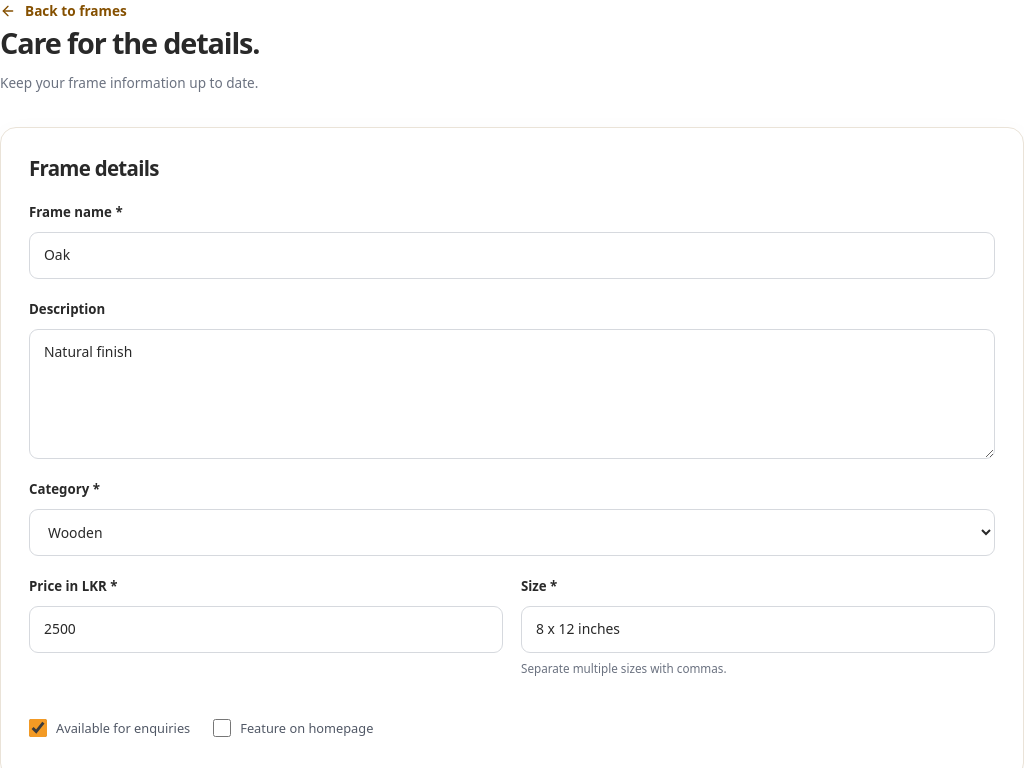
Test case: edits a persisted frame without requiring a replacement image
Replace the text in the number field labelled "Price in LKR *" with "3000". click: (266, 629)
box: left=29, top=606, right=503, bottom=653
(page scrolled)
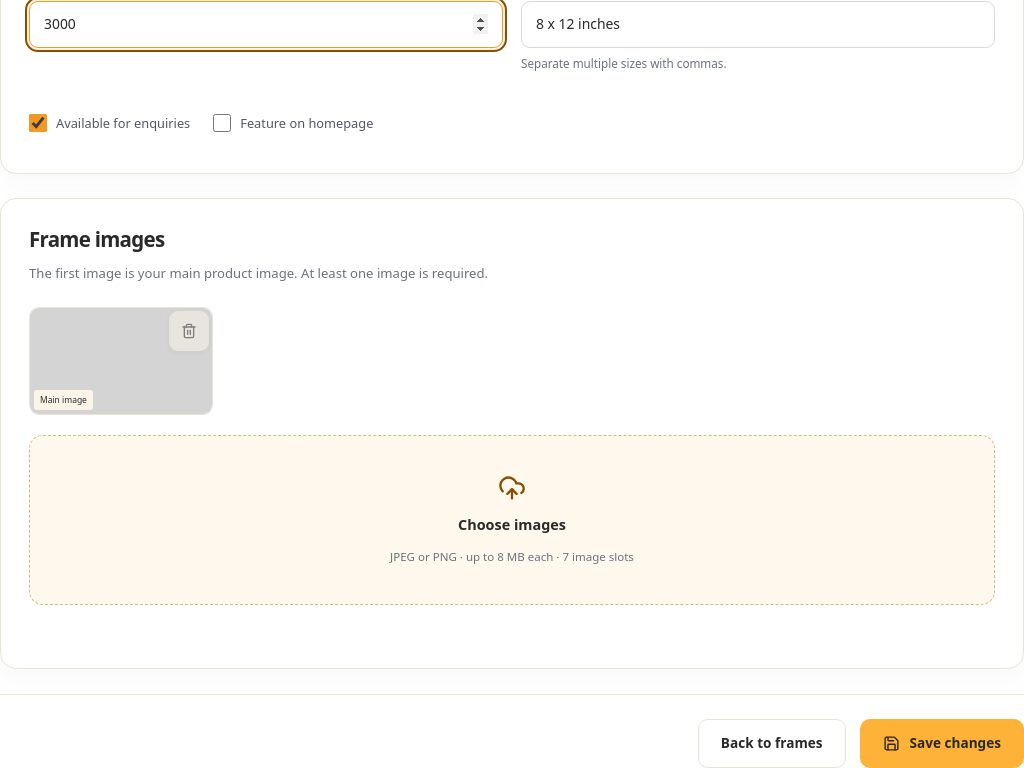
Click the button "Save changes". click: (942, 744)
box: left=860, top=719, right=1023, bottom=767
(page scrolled)
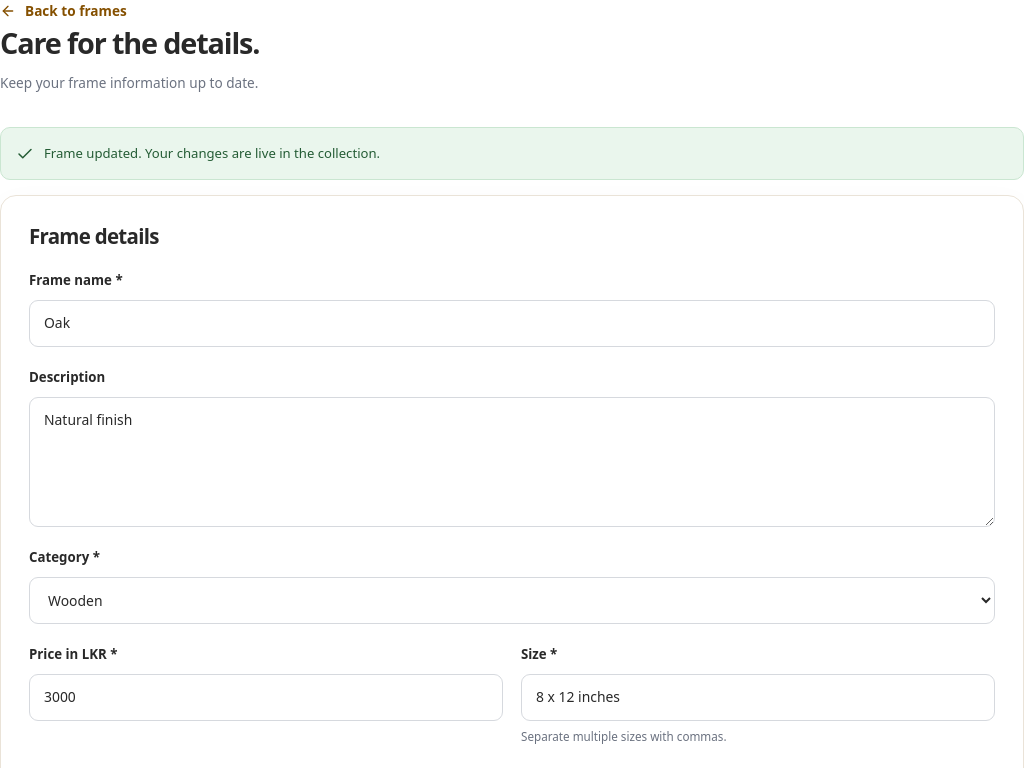
Expected: the text "Frame updated. Your changes are live in the collection." is shown, left=0, top=127, right=1023, bottom=180
